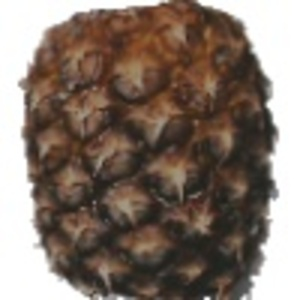abacaxi: (9, 2, 281, 297)
